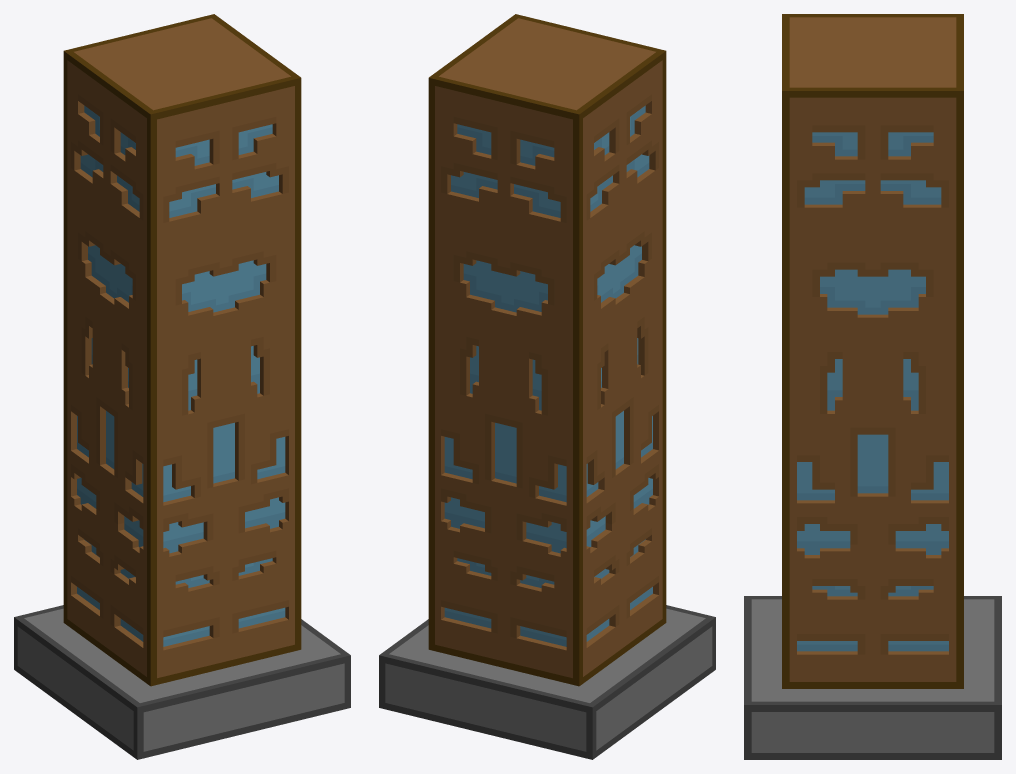
The model's file is Defender Totem.fbx.
3 renders of one model, left to right at view 1: azimuth 30°, elevation 25°; view 2: azimuth 150°, elevation 25°; view 3: azimuth 270°, elevation 25°, orthographic. The views are drawn at different scales.
Parts seen in each view (by area): view 1: Defender Totem; view 2: Defender Totem; view 3: Defender Totem.
Boxes of the visible parts, <box> form: Defender Totem: <box>14,14,350,759</box>; Defender Totem: <box>379,14,715,759</box>; Defender Totem: <box>744,14,1001,759</box>.
Size of the model in its own units: 1.47 by 1.47 by 4.1.
1 material, 1 textured.
